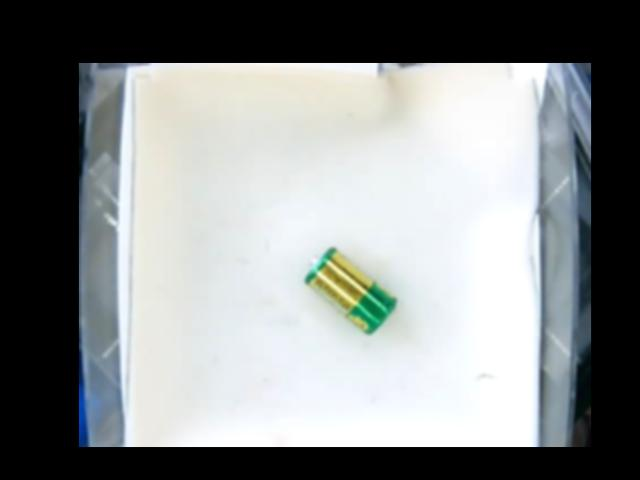Battery: (303, 247, 396, 332)
